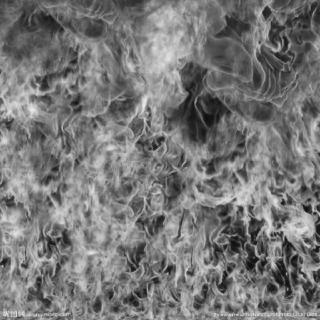Fire: (0, 1, 318, 317)
